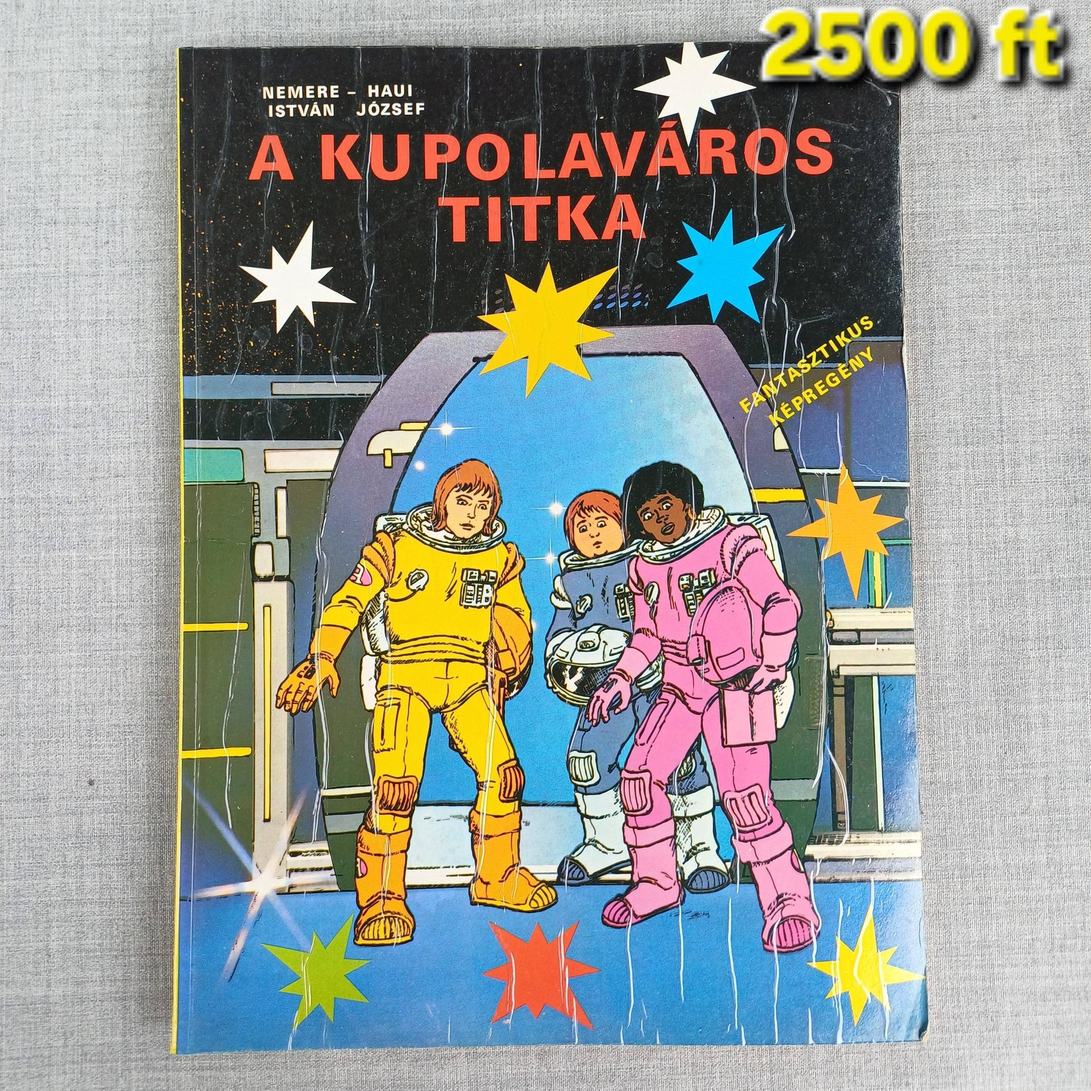comic: (162, 40, 927, 1052)
